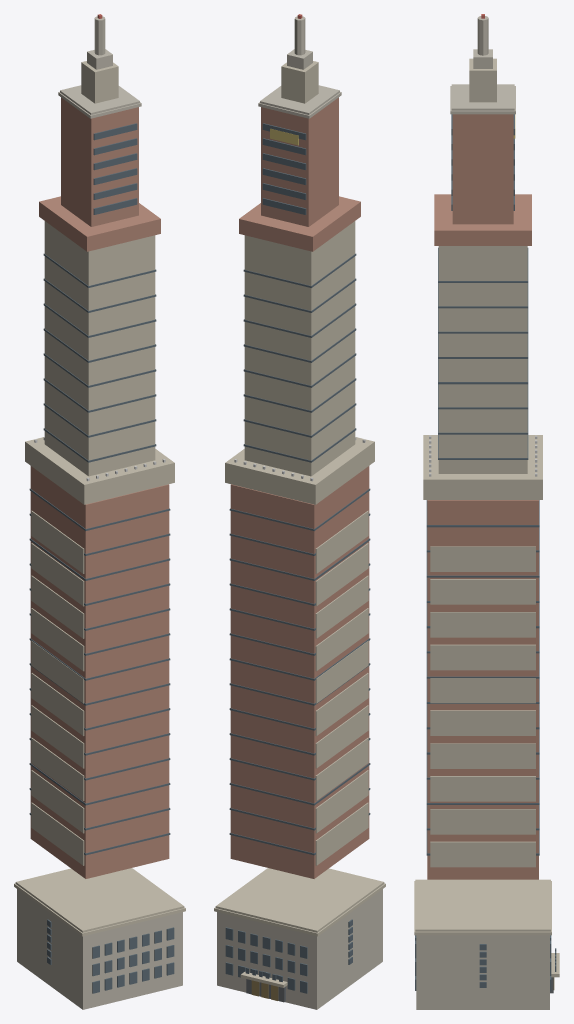
The model's file is empire.glb.
3 views of the same model, side by side, from view 1: azimuth 30°, elevation 25°; view 2: azimuth 150°, elevation 25°; view 3: azimuth 270°, elevation 25° (orthographic).
Visible parts, largest first — view 1: Mesh; view 2: Mesh; view 3: Mesh.
Boxes of the visible parts, left/top/right/bottom form: Mesh: left=14, top=14, right=185, bottom=1009; Mesh: left=214, top=14, right=385, bottom=1009; Mesh: left=414, top=14, right=559, bottom=1009.
Bounding box in the file's own units: 43.5 × 384 × 52.25.
